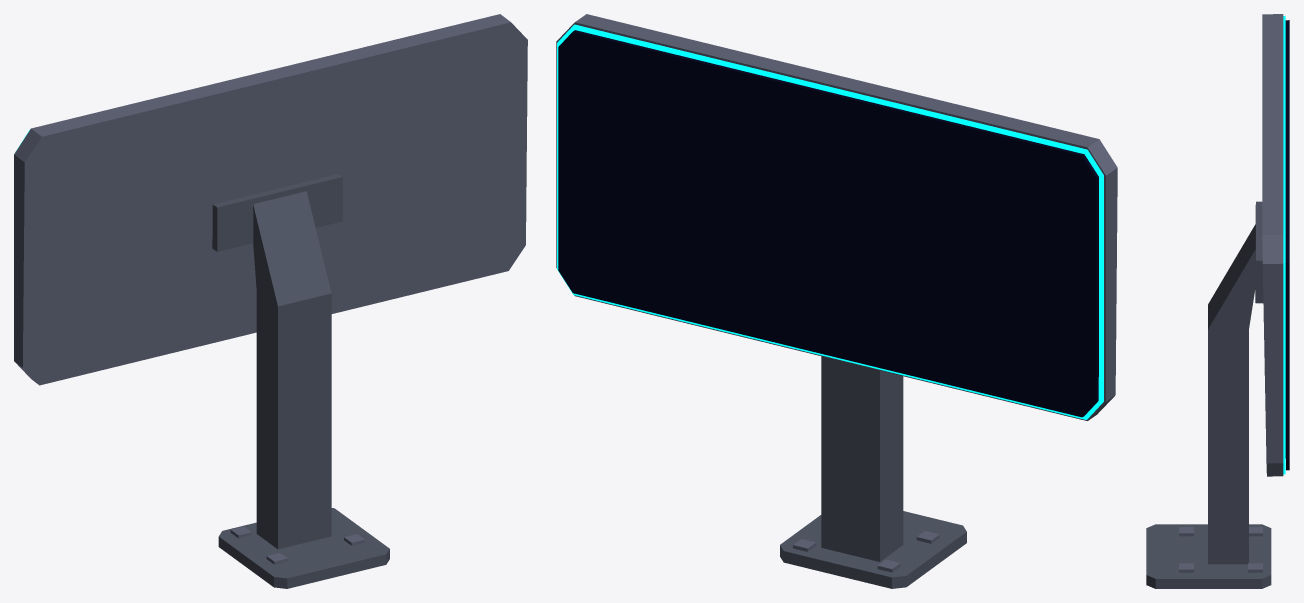
The model's file is nav_panel_high_1.glb.
The picture shows the model from 3 angles, left to right: view 1: azimuth 30°, elevation 25°; view 2: azimuth 150°, elevation 25°; view 3: azimuth 270°, elevation 25°; orthographic projection. The views are drawn at different scales.
Parts seen in each view (by area): view 1: single-piece low-poly chamfered console body.001, central rectangular pedestal support.001, central rectangular pedestal support.002, chamfered floor mounting plate.001, angled top mounting bracket.001; view 2: single-piece low-poly chamfered console body.003, central rectangular pedestal support.001, single-piece low-poly chamfered console body.001, chamfered floor mounting plate.001, single-piece low-poly chamfered console body.002; view 3: single-piece low-poly chamfered console body.001, central rectangular pedestal support.001, chamfered floor mounting plate.001, central rectangular pedestal support.002, single-piece low-poly chamfered console body.003, single-piece low-poly chamfered console body.002, angled top mounting bracket.001.
Boxes of the visible parts, bbox=[...] form: single-piece low-poly chamfered console body.001: bbox=[14, 14, 527, 385]; central rectangular pedestal support.001: bbox=[256, 291, 331, 549]; central rectangular pedestal support.002: bbox=[253, 191, 331, 306]; chamfered floor mounting plate.001: bbox=[218, 508, 389, 588]; angled top mounting bracket.001: bbox=[212, 174, 342, 251]; single-piece low-poly chamfered console body.003: bbox=[558, 30, 1098, 417]; central rectangular pedestal support.001: bbox=[821, 356, 903, 561]; single-piece low-poly chamfered console body.001: bbox=[556, 14, 1117, 420]; chamfered floor mounting plate.001: bbox=[780, 511, 966, 588]; single-piece low-poly chamfered console body.002: bbox=[557, 24, 1103, 419]; single-piece low-poly chamfered console body.001: bbox=[1262, 14, 1283, 476]; central rectangular pedestal support.001: bbox=[1208, 330, 1248, 564]; chamfered floor mounting plate.001: bbox=[1146, 524, 1271, 588]; central rectangular pedestal support.002: bbox=[1208, 224, 1255, 329]; single-piece low-poly chamfered console body.003: bbox=[1285, 20, 1289, 470]; single-piece low-poly chamfered console body.002: bbox=[1283, 16, 1285, 474]; angled top mounting bracket.001: bbox=[1255, 201, 1263, 303].
Bounding box in the file's own units: 5.99 × 5.16 × 1.54.
